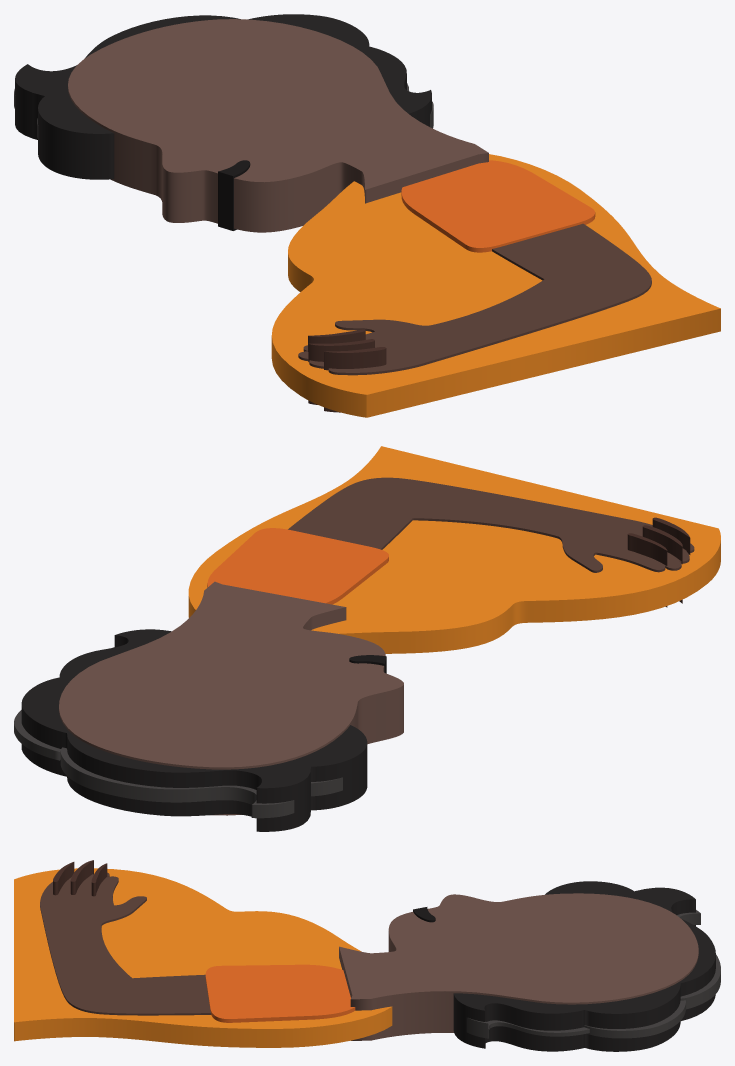
Rendered from emoji_u1fac4_1f3ff.glb.
3 renders of one model, top to bottom at view 1: azimuth 30°, elevation 25°; view 2: azimuth 150°, elevation 25°; view 3: azimuth 270°, elevation 25°, orthographic. The views are drawn at different scales.
Visible parts, largest first — view 1: emoji_u1fac4_1f3ff; view 2: emoji_u1fac4_1f3ff; view 3: emoji_u1fac4_1f3ff.
Boxes of the visible parts, x1,y1,x2,y2 form: emoji_u1fac4_1f3ff: (14, 14, 720, 417); emoji_u1fac4_1f3ff: (14, 446, 720, 831); emoji_u1fac4_1f3ff: (14, 860, 720, 1051).
Bounding box in the file's own units: 0.0182 × 0.0026 × 0.0338.
